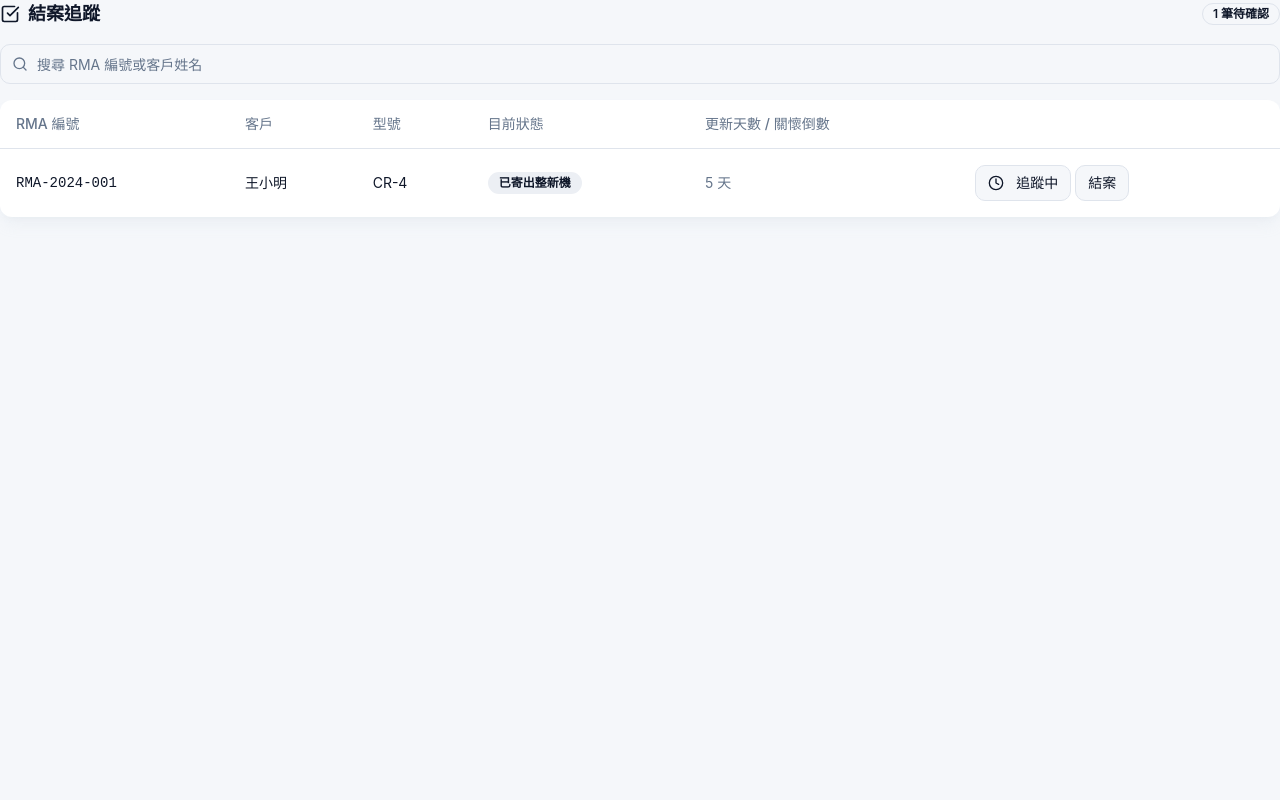
Scenario: ClosingTab - 結案 Dialog checkbox 預設值 › 從 shipped_back_* 開啟結案 dialog → checkbox 預設勾選
Expected: the text "RMA-2024-001" is shown, [0,148,229,216]
Click the button "結案". click: click(1102, 182)
box: [1075,164,1129,200]
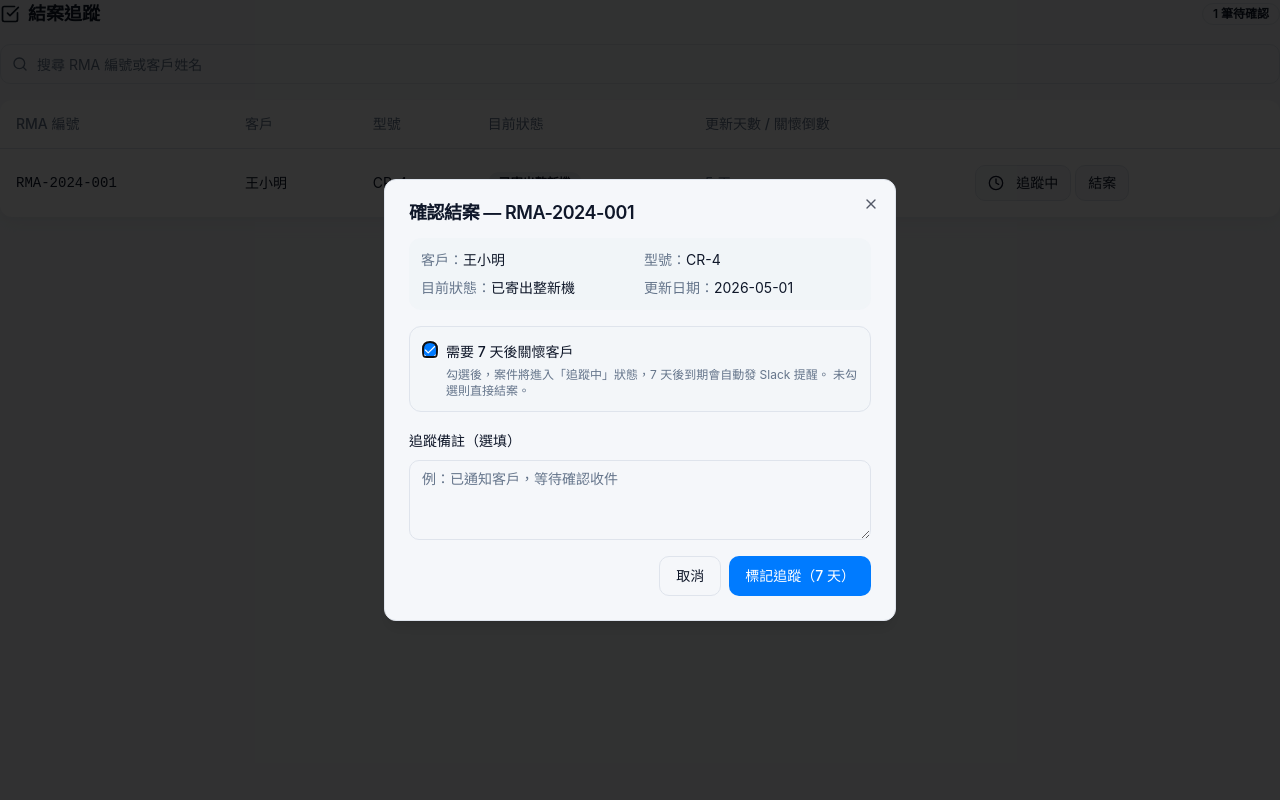
Result: the heading "確認結案 — RMA-2024-001" is shown at [409,202,634,223]
